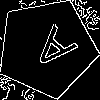A: (21, 23, 79, 80)
